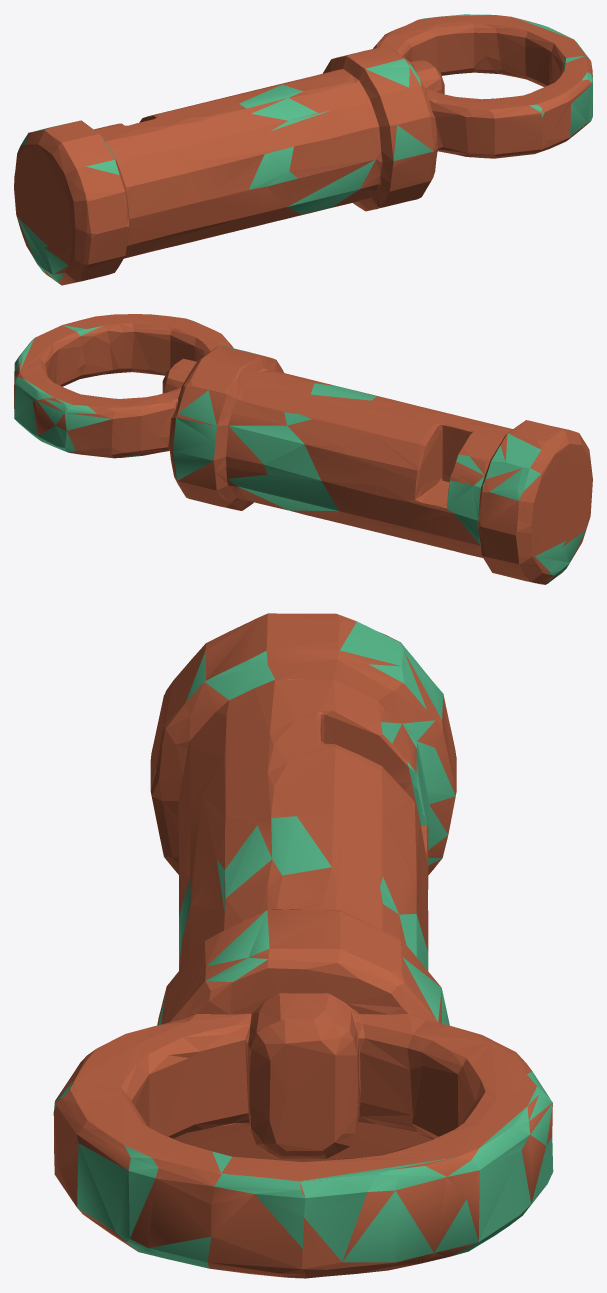
Rendered from PROP_03_game.glb.
The picture shows the model from 3 angles, top to bottom: view 1: azimuth 30°, elevation 25°; view 2: azimuth 150°, elevation 25°; view 3: azimuth 270°, elevation 25°; orthographic projection. The views are drawn at different scales.
Visible parts, largest first — view 1: PROP_03; view 2: PROP_03; view 3: PROP_03.
Boxes of the visible parts, bbox=[...] form: PROP_03: bbox=[14, 14, 592, 285]; PROP_03: bbox=[14, 314, 592, 584]; PROP_03: bbox=[53, 613, 553, 1278].
Bounding box in the file's own units: 0.55 × 0.1413 × 0.223.
